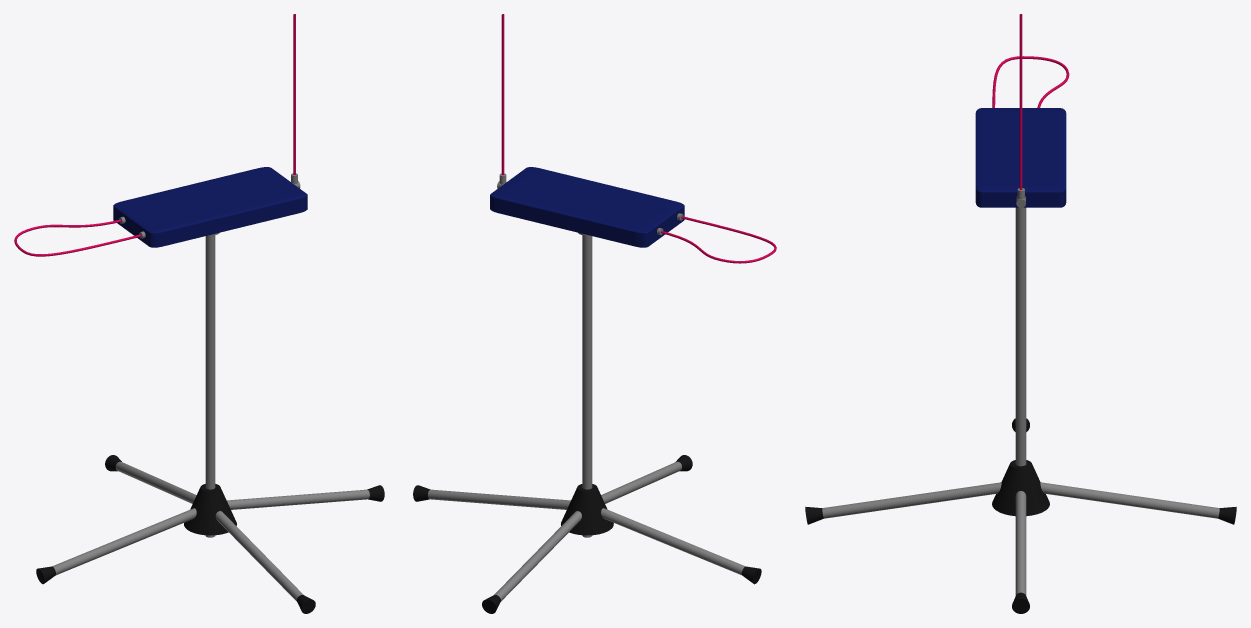
File: theremin.fbx
The picture shows the model from 3 angles, left to right: view 1: azimuth 30°, elevation 25°; view 2: azimuth 150°, elevation 25°; view 3: azimuth 270°, elevation 25°; orthographic projection. The views are drawn at different scales.
Parts seen in each view (by area): view 1: Cube, Cylinder.005, Cylinder.009, Cylinder.007, Cylinder.006, Cylinder.010, Cylinder.008, BezierCurve; view 2: Cube, Cylinder.005, Cylinder.009, Cylinder.007, Cylinder.006, Cylinder.008, Cylinder.010, BezierCurve, BezierCurve.001; view 3: Cube, Cylinder.005, Cylinder.008, Cylinder.010, Cylinder.006, Cylinder.007, BezierCurve.001.
Boxes of the visible parts, x1,y1,x2,y2 form: Cube: (113,167,307,247); Cylinder.005: (205,235,215,537); Cylinder.009: (36,508,196,584); Cylinder.007: (226,485,384,509); Cylinder.006: (184,484,236,535); Cylinder.010: (215,511,315,613); Cylinder.008: (105,455,196,503); BezierCurve: (14,219,141,256); Cube: (490,167,684,247); Cylinder.005: (582,235,592,537); Cylinder.009: (601,508,761,584); Cylinder.007: (413,485,570,509); Cylinder.006: (561,484,613,535); Cylinder.008: (482,511,581,613); Cylinder.010: (601,455,692,503); BezierCurve: (661,216,776,263); BezierCurve.001: (501,14,504,174); Cube: (975,108,1066,207); Cylinder.005: (1015,207,1026,466); Cylinder.008: (1040,482,1236,524); Cylinder.010: (805,482,1001,524); Cylinder.006: (992,460,1049,516); Cylinder.007: (1012,491,1029,613); BezierCurve.001: (1019,14,1022,189).
Bounding box in the file's own units: 111 × 150 × 106.
